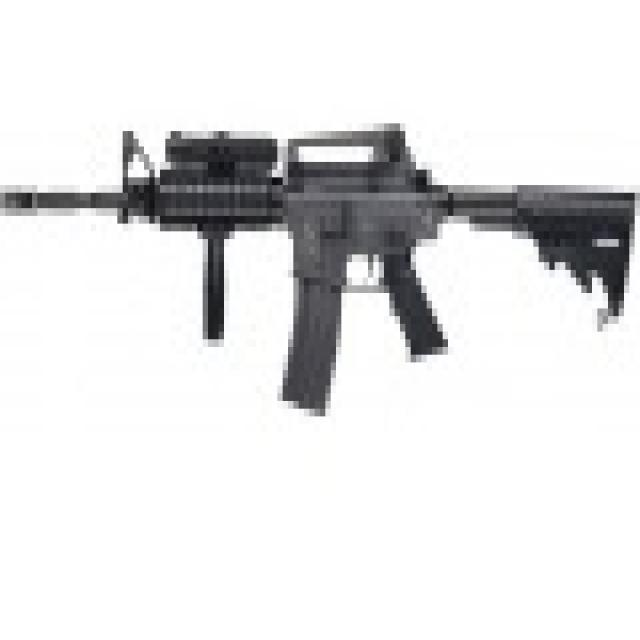Gun: (0, 96, 640, 423)
